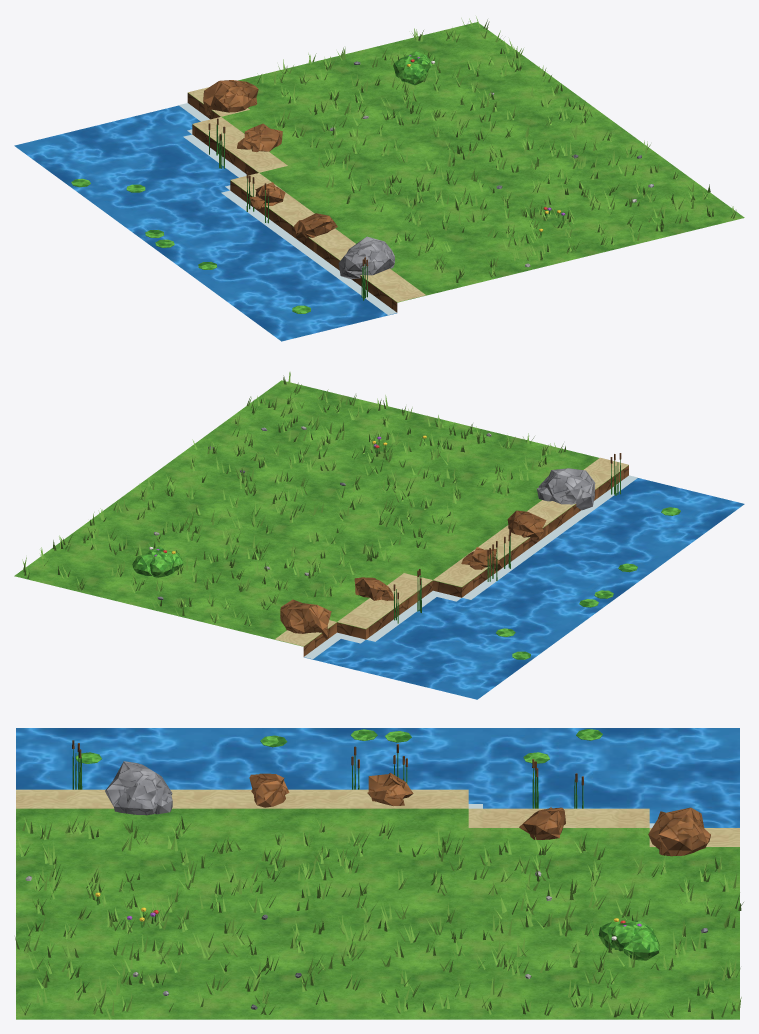
The model's file is chunk_0_8.glb.
The picture shows the model from 3 angles, top to bottom: view 1: azimuth 30°, elevation 25°; view 2: azimuth 150°, elevation 25°; view 3: azimuth 270°, elevation 25°; orthographic projection. The views are drawn at different scales.
Parts seen in each view (by area): view 1: chunk_0_8; view 2: chunk_0_8; view 3: chunk_0_8.
Part boxes in pixels (<box>): chunk_0_8: <box>14,16,744,341</box>; chunk_0_8: <box>14,372,744,699</box>; chunk_0_8: <box>15,728,743,1019</box>.
Size of the model in its own units: 16.08 by 1.55 by 16.15.
Materials: 17 (11 with a texture image).
